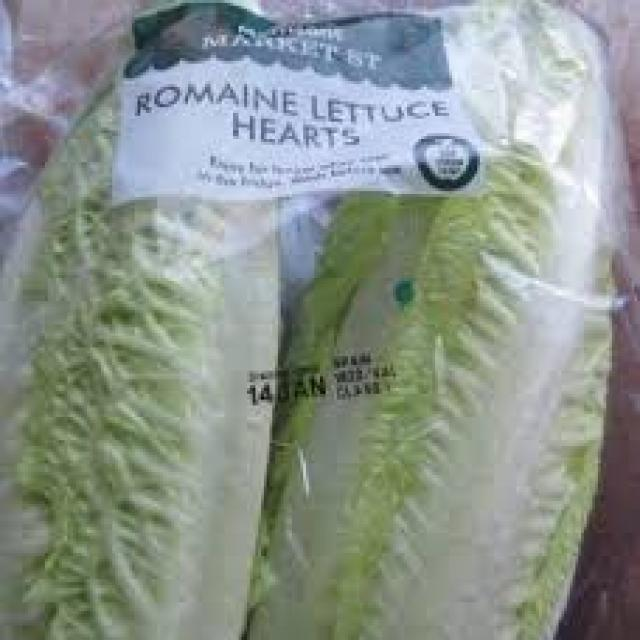organic waste: (328, 142, 615, 637), (28, 107, 267, 637), (261, 151, 438, 637)
